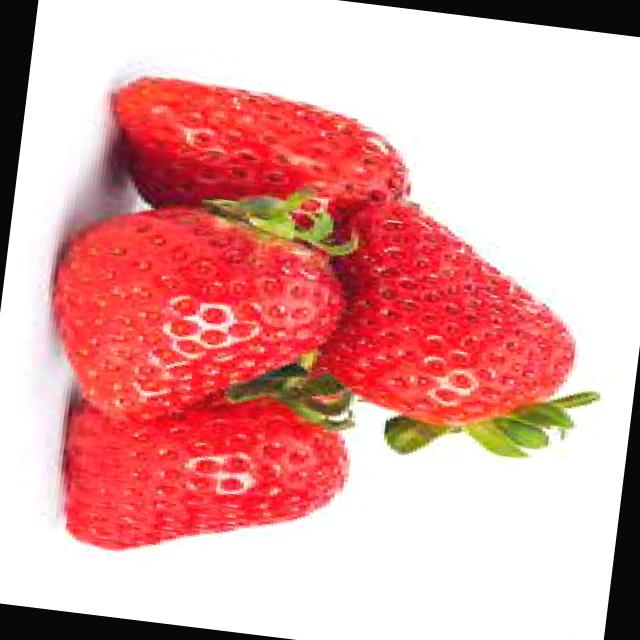strawberry: (41, 171, 344, 444), (306, 189, 596, 468), (43, 356, 352, 592), (91, 62, 426, 244)
